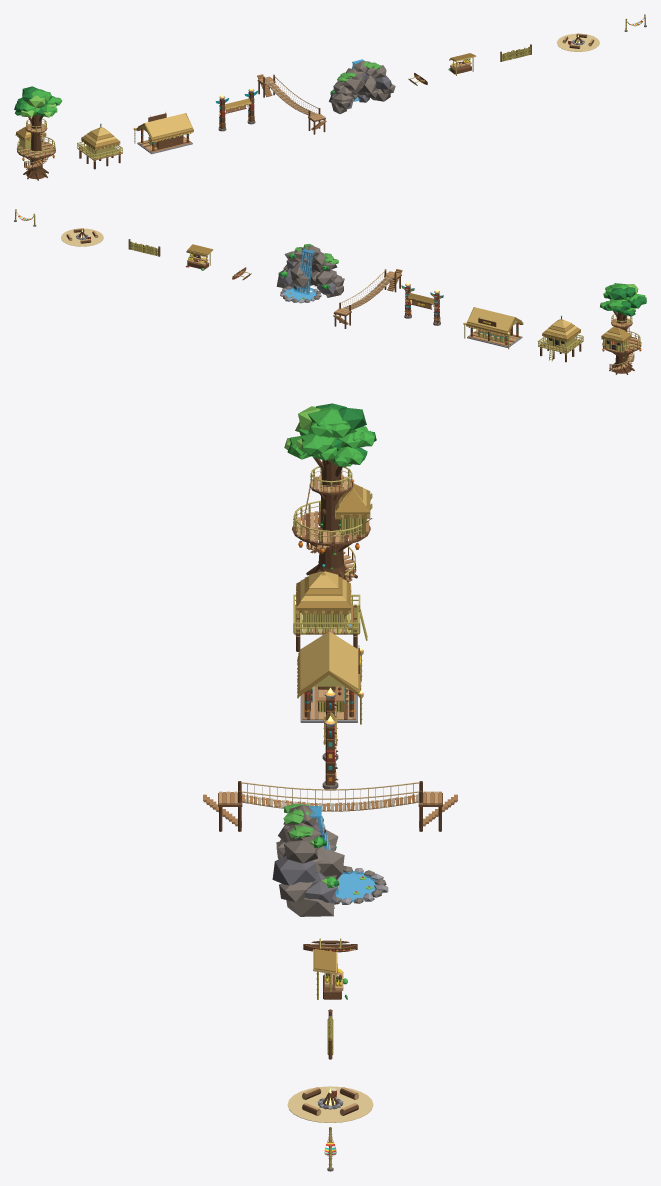
The model's file is TropicalIsland.fbx.
3 views of the same model, one above another, from view 1: azimuth 30°, elevation 25°; view 2: azimuth 150°, elevation 25°; view 3: azimuth 270°, elevation 25° (orthographic). The views are drawn at different scales.
Parts seen in each view (by area): view 1: WaterfallCliff_Rock, TikiBar_Thatch, TreeHouse_Bark, RopeBridge_Plank, TreeHouse_Leaf, TikiBar_WoodDark, Bonfire_Sand, StiltHut_Bamboo, WaterfallCliff_StoneDark, TreeHouse_Bamboo, StiltHut_ThatchDark, TreeHouse_WoodDark (+7 smaller); view 2: WaterfallCliff_Rock, TikiBar_Thatch, WaterfallCliff_Water, TreeHouse_LeafDark, RopeBridge_Plank, TreeHouse_Leaf, WaterfallCliff_StoneDark, Bonfire_Sand, StiltHut_Bamboo, TreeHouse_Bark, TreeHouse_Bamboo, StiltHut_ThatchDark (+7 smaller); view 3: WaterfallCliff_Rock, TreeHouse_Leaf, TikiBar_Thatch, TreeHouse_Bark, RopeBridge_Plank, Bonfire_Sand, WaterfallCliff_StoneDark, StiltHut_Bamboo, RopeBridge_Rope, StiltHut_ThatchDark, TreeHouse_Bamboo, WaterfallCliff_Water (+1 smaller).
Boxes of the visible parts, x1,y1,x2,y2 form: WaterfallCliff_Rock: (330,61,395,113); TikiBar_Thatch: (133,113,193,142); TreeHouse_Bark: (23,106,48,180); RopeBridge_Plank: (257,74,326,130); TreeHouse_Leaf: (19,89,62,170); TikiBar_WoodDark: (140,113,190,151); Bonfire_Sand: (557,33,599,51); StiltHut_Bamboo: (77,142,122,159); WaterfallCliff_StoneDark: (329,73,391,109); TreeHouse_Bamboo: (17,118,55,163); StiltHut_ThatchDark: (81,127,120,150); TreeHouse_WoodDark: (17,123,55,169); WaterfallCliff_Rock: (276,245,344,302); TikiBar_Thatch: (463,307,522,336); WaterfallCliff_Water: (284,248,316,302); TreeHouse_LeafDark: (603,287,646,353); RopeBridge_Plank: (333,269,402,324); TreeHouse_Leaf: (600,283,645,364); WaterfallCliff_StoneDark: (278,258,335,294); Bonfire_Sand: (61,228,103,246); StiltHut_Bamboo: (537,334,583,361); TreeHouse_Bark: (609,311,634,374); TreeHouse_Bamboo: (603,314,640,365); StiltHut_ThatchDark: (542,319,580,342); WaterfallCliff_Rock: (276,805,386,916); TreeHouse_Leaf: (287,407,374,569); TikiBar_Thatch: (297,631,363,698); TreeHouse_Bark: (306,457,357,581); RopeBridge_Plank: (203,791,457,827); Bonfire_Sand: (287,1086,373,1122); WaterfallCliff_StoneDark: (272,822,337,908); StiltHut_Bamboo: (293,594,367,640); RopeBridge_Rope: (241,782,419,811); StiltHut_ThatchDark: (296,571,351,614); TreeHouse_Bamboo: (293,466,372,575); WaterfallCliff_Water: (309,806,377,902).
Bounding box in the file's own units: 457 × 59.91 × 80.21.
